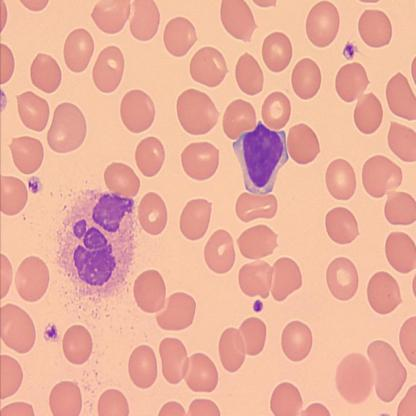Atypical lymphocyte: (58, 192, 138, 304), (232, 119, 290, 196)
